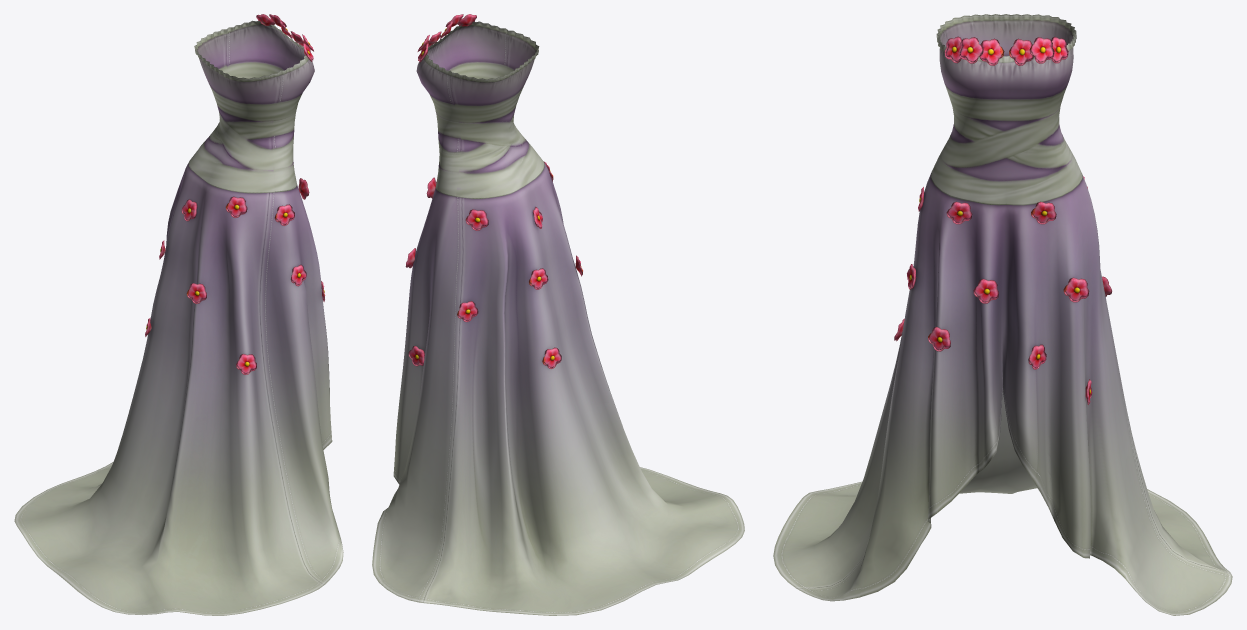
File: dress.obj
3 views of the same model, side by side, from view 1: azimuth 30°, elevation 25°; view 2: azimuth 150°, elevation 25°; view 3: azimuth 270°, elevation 25° (orthographic). The views are drawn at different scales.
Parts seen in each view (by area): view 1: Butterfly_Dress; view 2: Butterfly_Dress; view 3: Butterfly_Dress.
Boxes of the visible parts, x1,y1,x2,y2 form: Butterfly_Dress: [14, 14, 343, 615]; Butterfly_Dress: [372, 14, 744, 615]; Butterfly_Dress: [773, 14, 1232, 615].
Bounding box in the file's own units: 84.71 × 150 × 107.
1 material, 1 textured.
